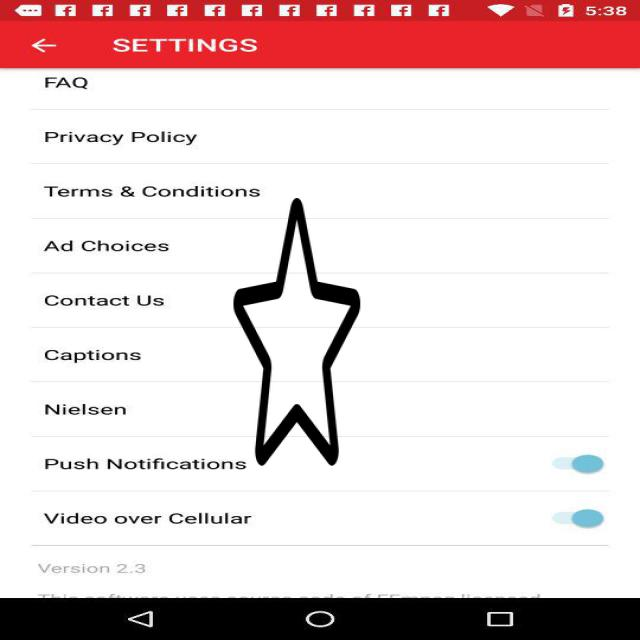forced continuity: (234, 192, 360, 471)
